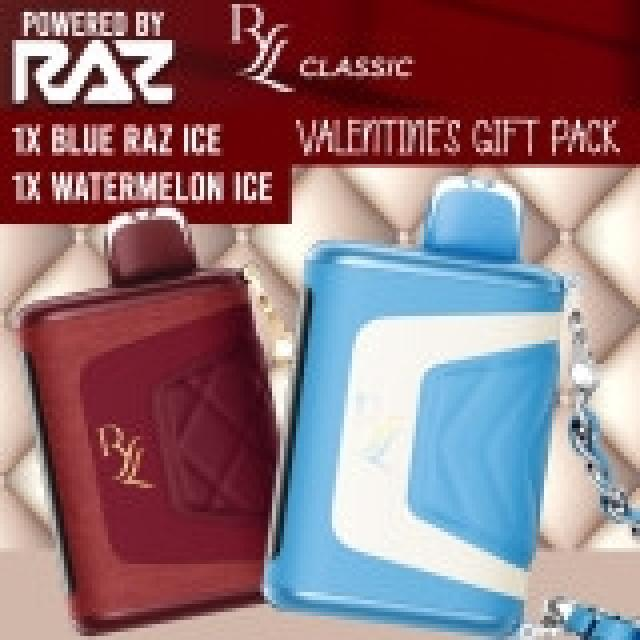Vapes: (8, 204, 280, 632)
